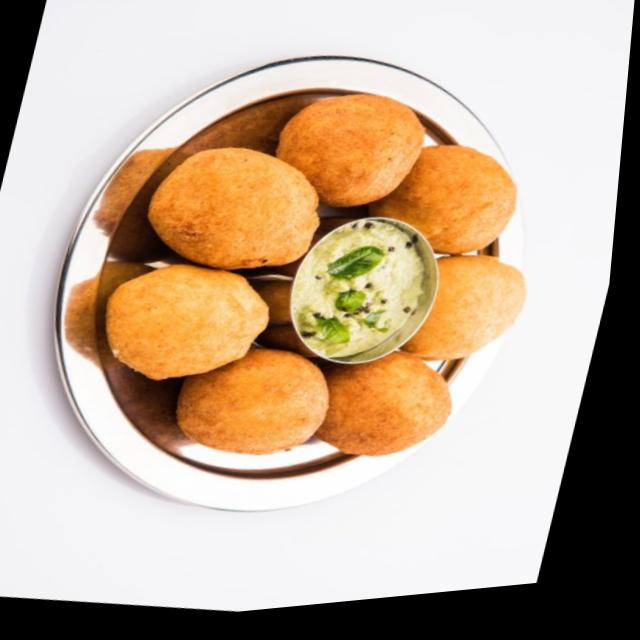BONDA: (105, 96, 525, 456)
WHITE CHUTNEY: (291, 221, 423, 357)
